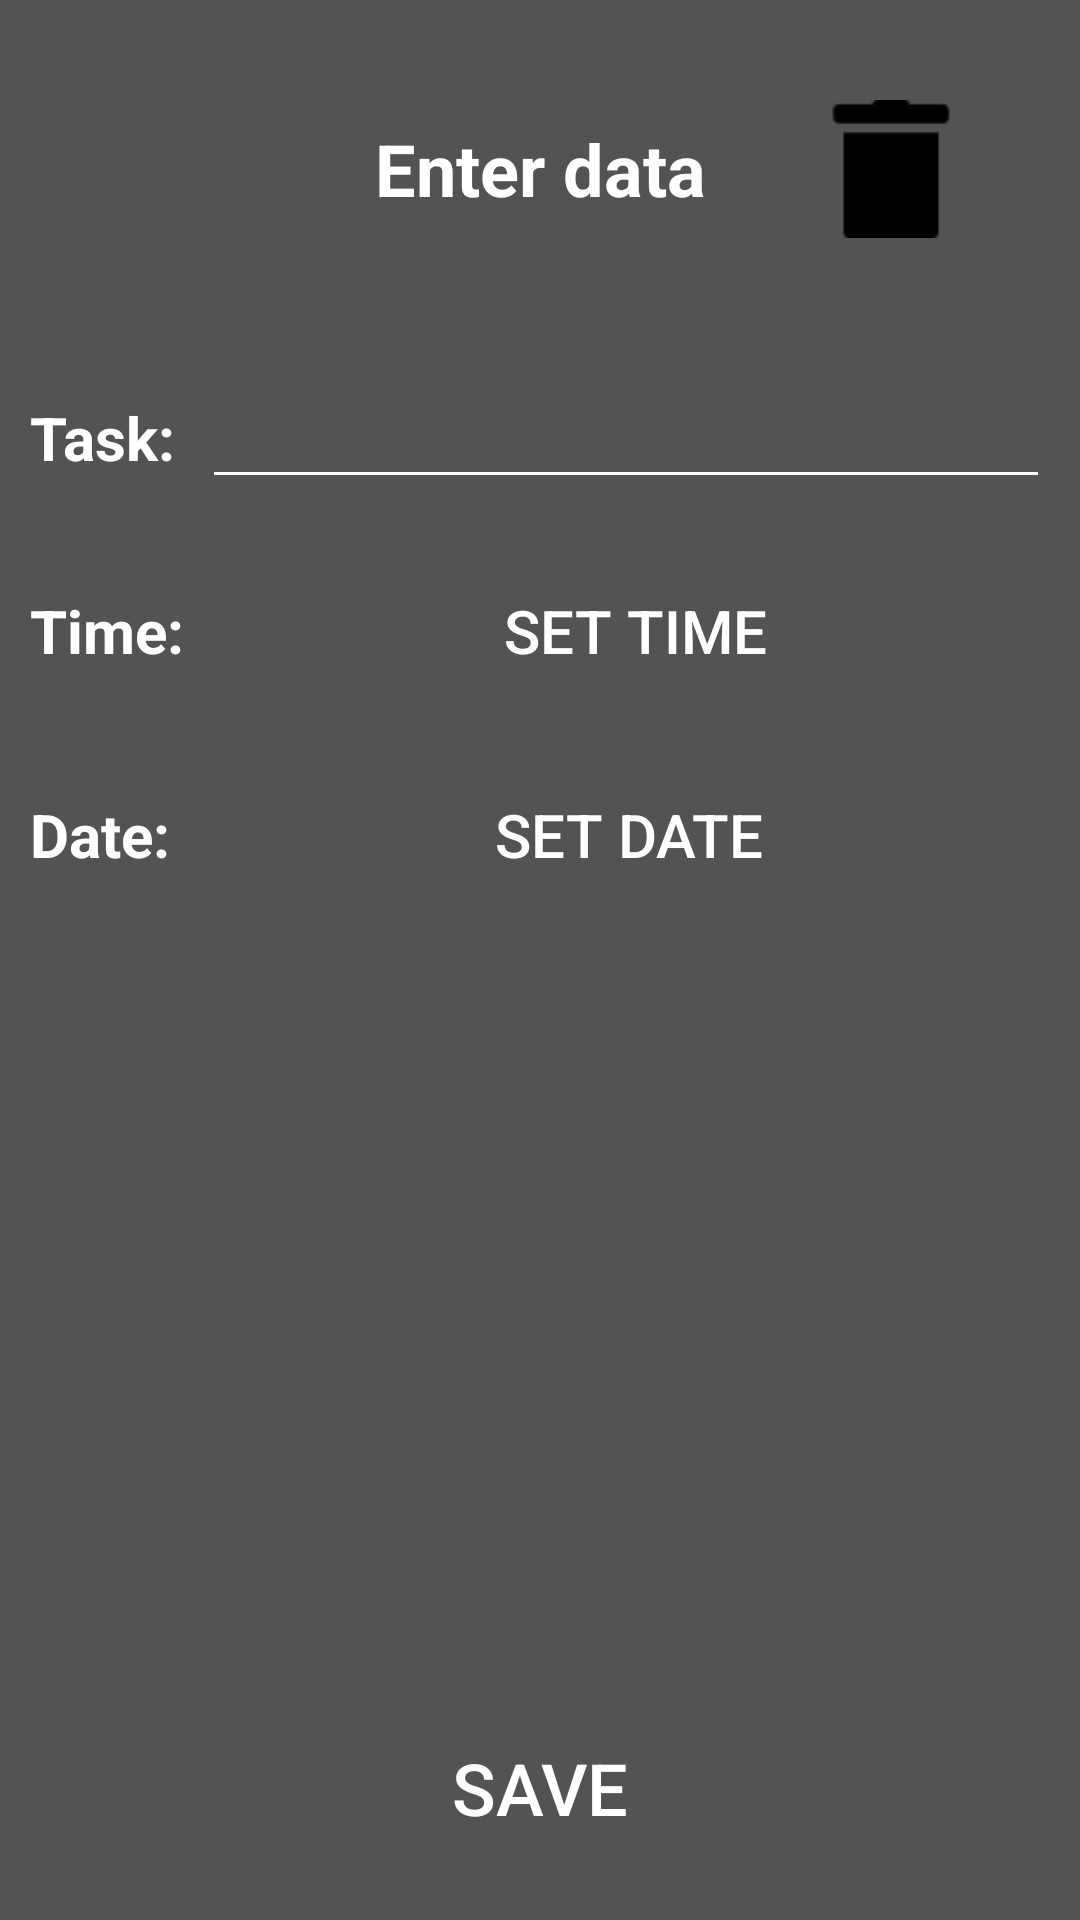

Icons on this 1080px x 1920px Android screen, each with the point to tap as (x,y):
trash can: (891,169)
